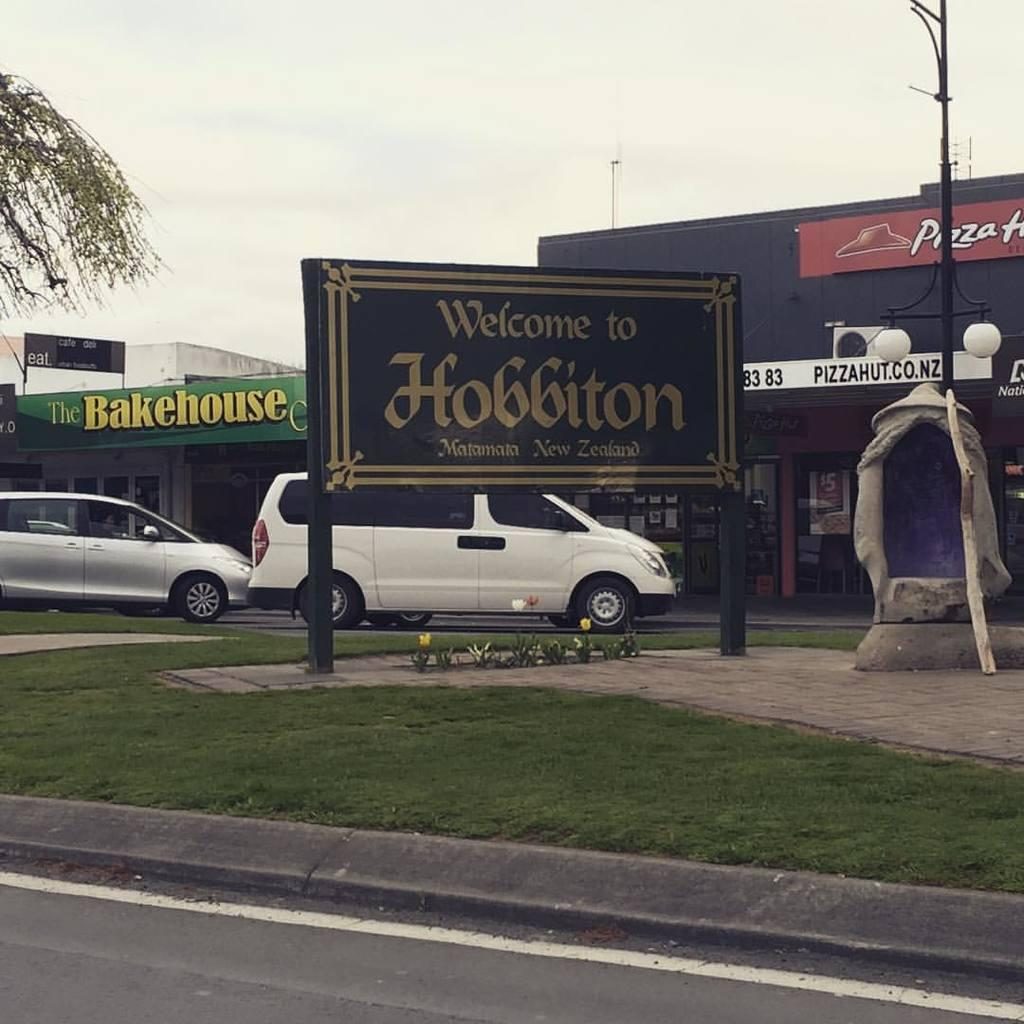vehicle: (243, 470, 679, 629), (0, 491, 249, 620)
